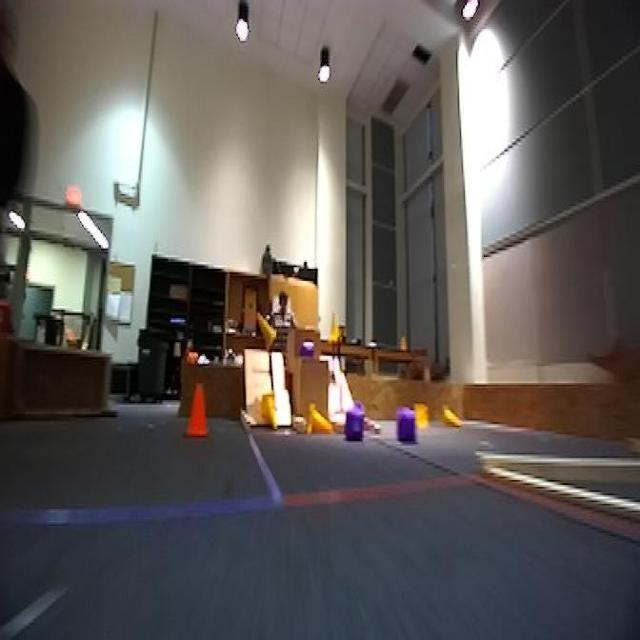frc_cone: (305, 402, 333, 439), (255, 312, 279, 351), (257, 392, 281, 431), (326, 315, 344, 352), (414, 402, 431, 441), (441, 405, 463, 432)
frc_cube: (394, 405, 420, 448), (342, 407, 363, 444), (298, 339, 318, 361)
